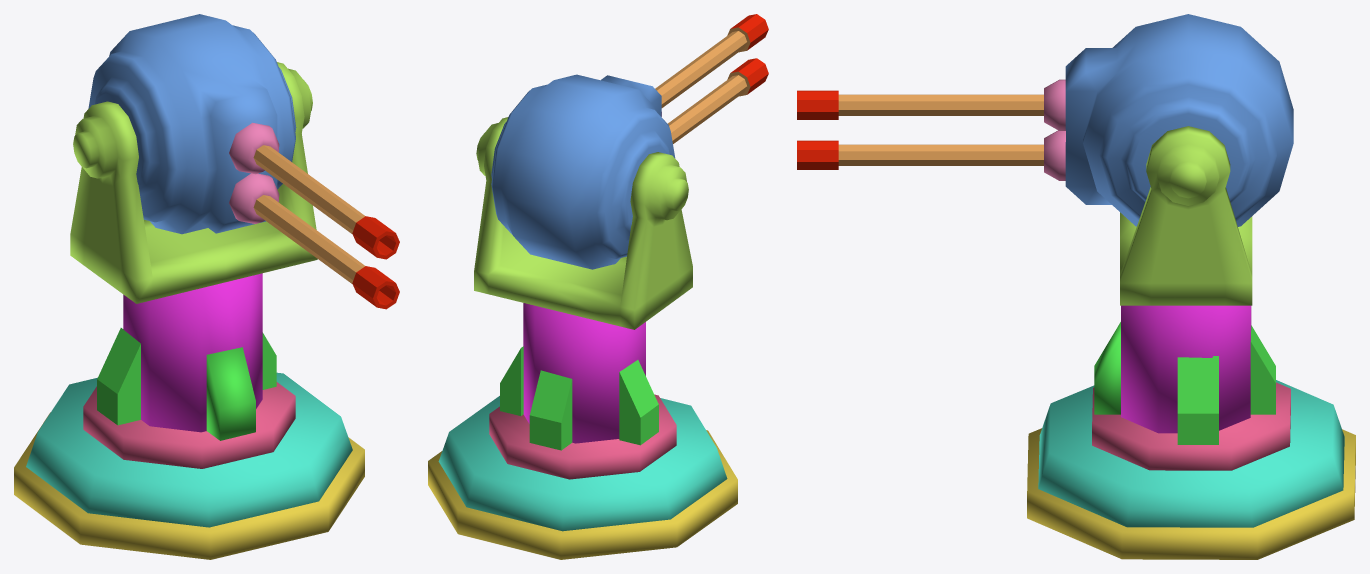
The model's file is Gun_Turret_Basic.fbx.
The picture shows the model from 3 angles, left to right: view 1: azimuth 30°, elevation 25°; view 2: azimuth 150°, elevation 25°; view 3: azimuth 270°, elevation 25°; orthographic projection. The views are drawn at different scales.
Visible parts, largest first — view 1: Top1, top4, top3, top2, top5; view 2: Top1, top4, top3, top2, top5; view 3: Top1, top4, top2, top3, top5.
Part boxes in pixels (x1,y1,x2,y2): Top1: [14, 372, 364, 559]; top4: [88, 14, 296, 234]; top3: [70, 62, 317, 303]; top2: [97, 273, 276, 440]; top5: [253, 145, 399, 309]; Top1: [428, 394, 737, 559]; top4: [491, 74, 675, 269]; top3: [474, 117, 692, 329]; top2: [500, 303, 658, 450]; top5: [655, 14, 768, 143]; Top1: [1027, 380, 1355, 559]; top4: [1044, 14, 1293, 226]; top2: [1094, 305, 1275, 444]; top3: [1120, 126, 1252, 305]; top5: [797, 90, 1043, 169].
Size of the model in its own units: 81.9 by 126 by 139.
